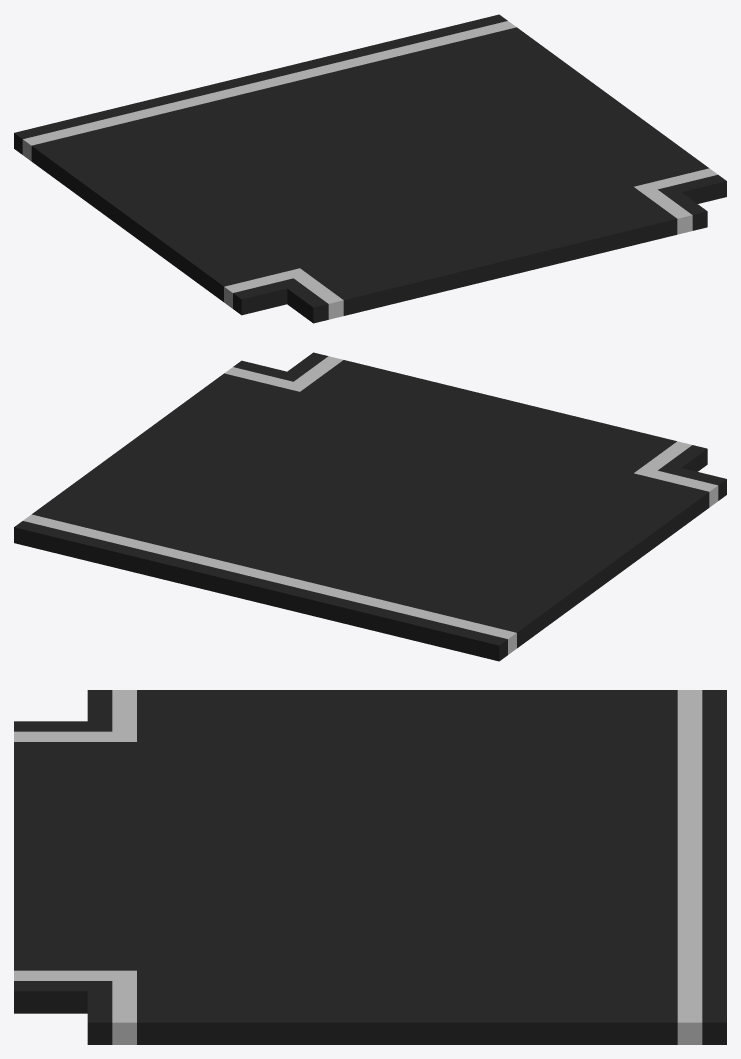
File: road-edgy-3-way-crossing-2.gltf
3 renders of one model, top to bottom at view 1: azimuth 30°, elevation 25°; view 2: azimuth 150°, elevation 25°; view 3: azimuth 270°, elevation 25°, orthographic. The views are drawn at different scales.
Parts seen in each view (by area): view 1: road-edgy-3-way-crossing-2; view 2: road-edgy-3-way-crossing-2; view 3: road-edgy-3-way-crossing-2.
Boxes of the visible parts, <box> form: road-edgy-3-way-crossing-2: <box>14,14,726,323</box>; road-edgy-3-way-crossing-2: <box>14,352,726,661</box>; road-edgy-3-way-crossing-2: <box>14,690,726,1044</box>.
Size of the model in its own units: 3.2 by 0.1 by 2.9.
Materials: 1 (1 with a texture image).
